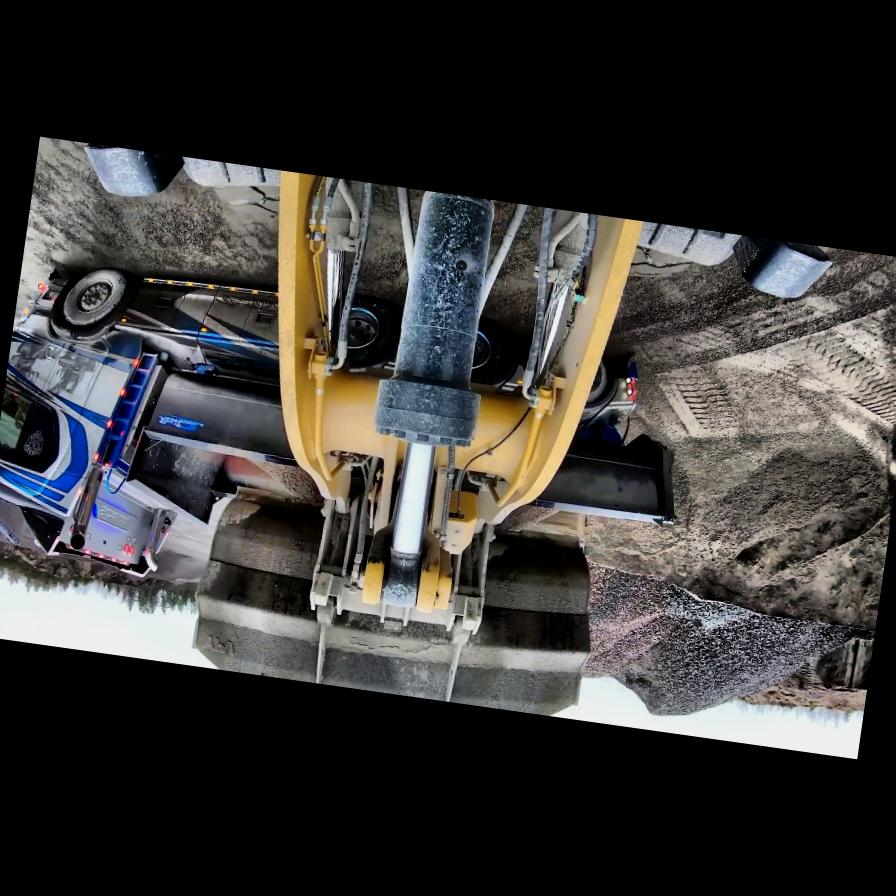anchor: (352, 544, 452, 616)
pile of gravel: (583, 317, 896, 636), (574, 570, 875, 744)
